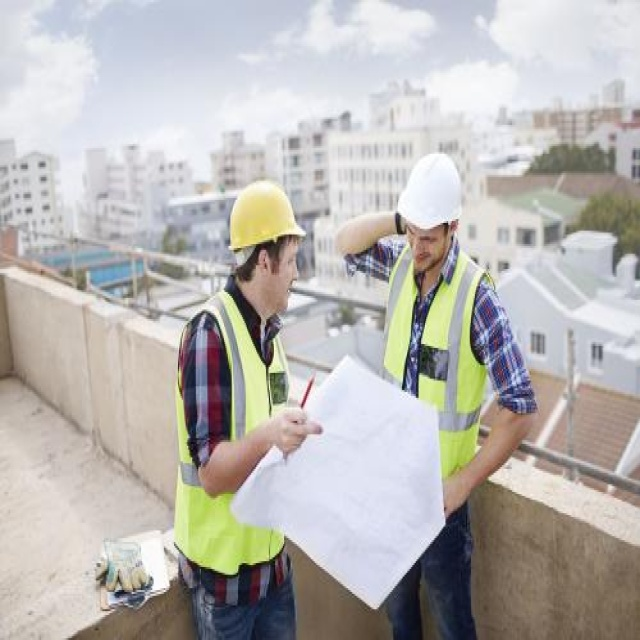Helmet: (219, 165, 311, 323), (384, 146, 476, 275)
Reflective vest: (163, 288, 300, 583), (384, 246, 495, 485)
